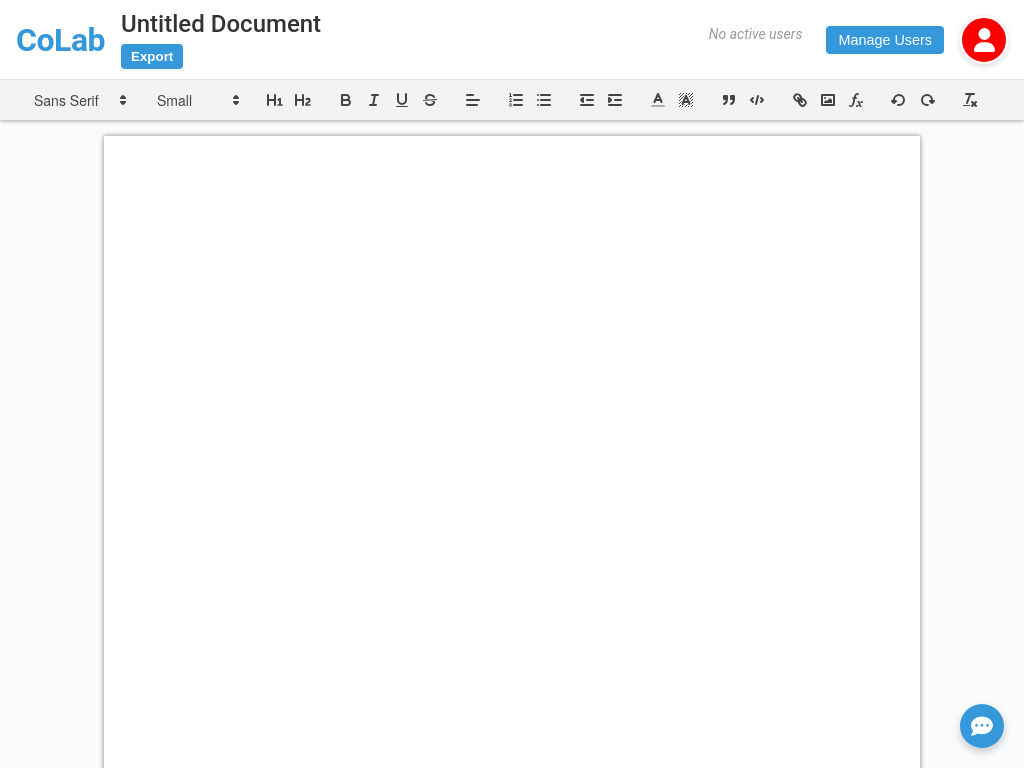
DocumentPage Component › toggles collaborator panel when manage users button is clicked
Note: Find and click the manage users button
Click the button "Manage Users" at (885, 40), box [826,26,944,54]
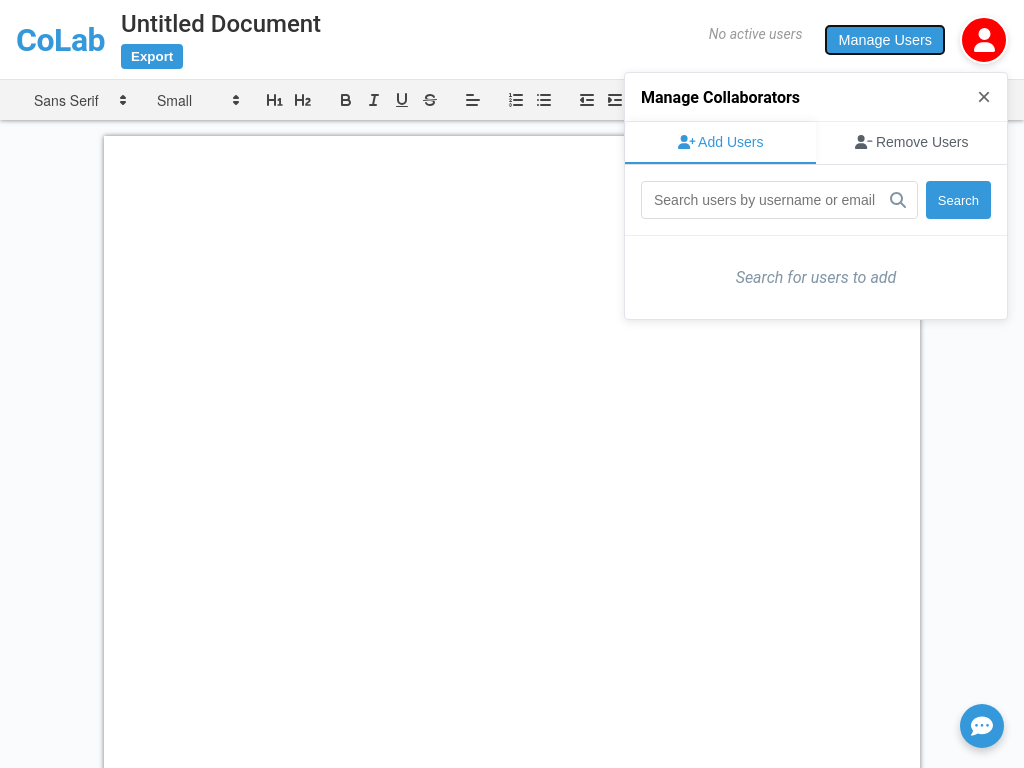
Expected: the heading "Manage Collaborators" is shown, [641,88,800,106]
Expected: the element with class "open" is shown, [624,72,1008,320]
Note: Find and click the close button
Click the button "×" at (984, 97), box [977,85,991,109]
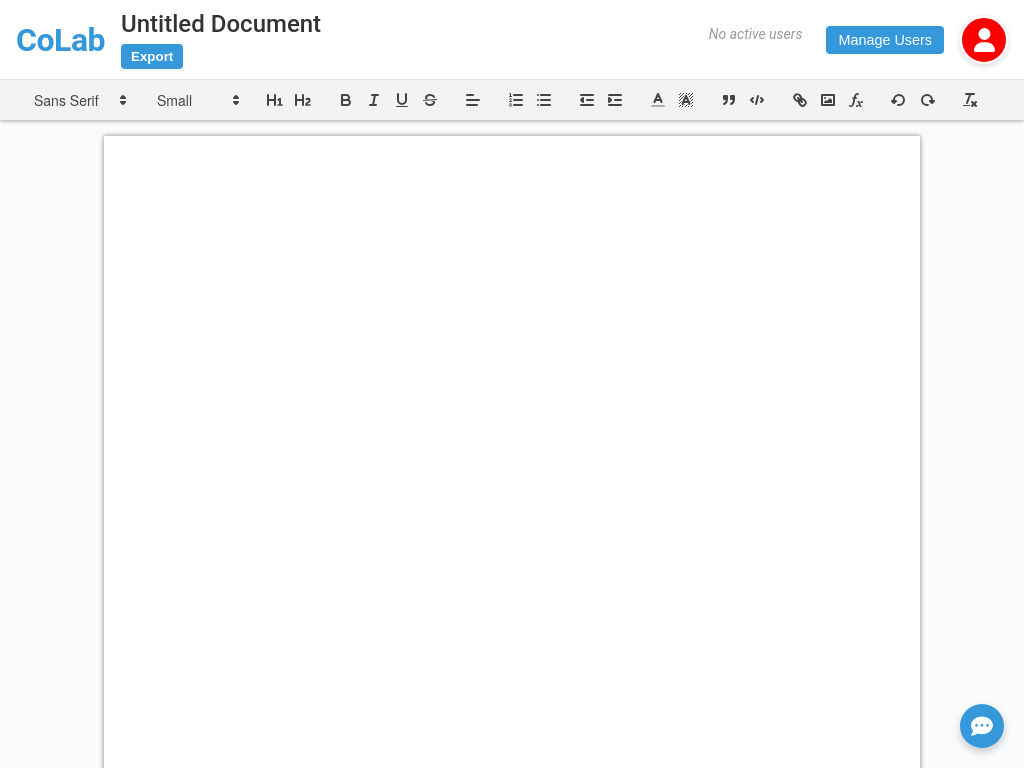
Expected: the element with class "open" is gone
